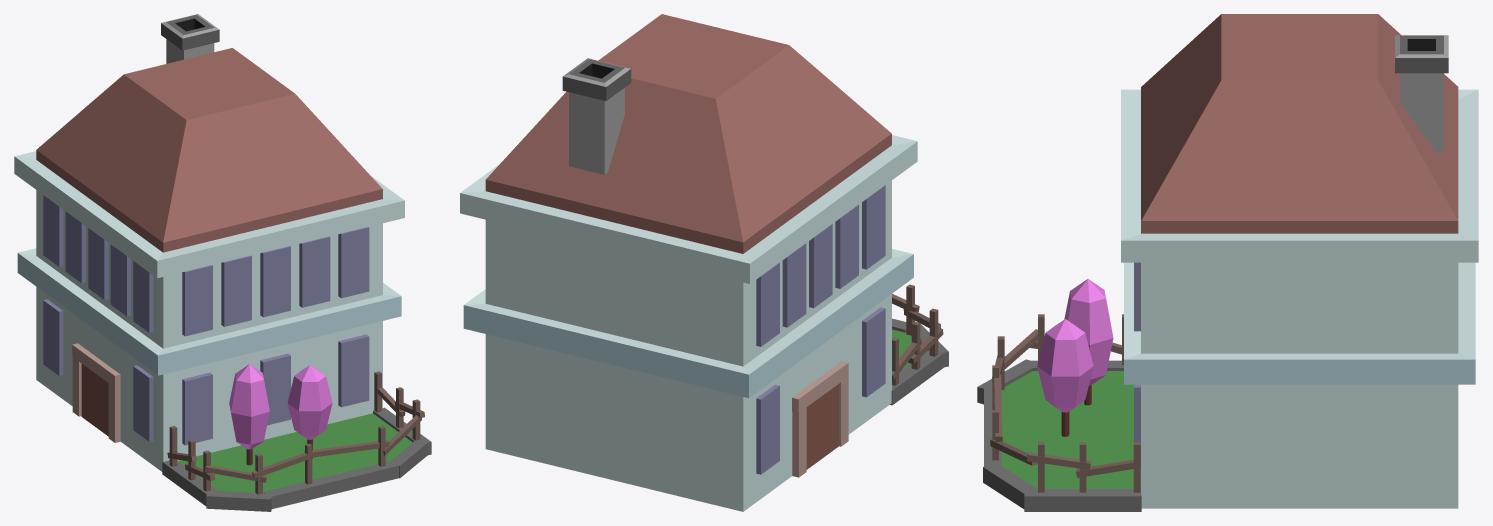
File: Player_House.fbx
The picture shows the model from 3 angles, left to right: view 1: azimuth 30°, elevation 25°; view 2: azimuth 150°, elevation 25°; view 3: azimuth 270°, elevation 25°; orthographic projection. The views are drawn at different scales.
Visible parts, largest first — view 1: Cube, Cube.001, Cube.007, Cube.002, Cube.003, Cube.006, Cylinder.001, Cylinder, Cube.027, Cube.004, Cube.005, Cube.028 (+5 smaller); view 2: Cube, Cube.002, Cube.006, Cube.004, Cube.005, Cube.025; view 3: Cube, Cube.007, Cylinder, Cylinder.001, Cube.026, Cube.029, Cube.027, Cube.028, Cube.021, Cube.020.
Boxes of the visible parts, x1,y1,x2,y2 form: Cube: (14,14,404,471); Cube.001: (182,227,369,336); Cube.007: (177,413,412,493); Cube.002: (43,195,153,332); Cube.003: (182,334,369,445); Cube.006: (43,299,153,441); Cylinder.001: (229,364,269,465); Cylinder: (287,365,332,458); Cube.027: (263,460,398,508); Cube.004: (72,343,120,442); Cube.005: (81,364,108,436); Cube.028: (206,491,272,511); Cube: (460,14,917,511); Cube.002: (756,185,885,346); Cube.006: (756,307,885,474); Cube.004: (792,361,848,477); Cube.005: (806,384,838,469); Cube.025: (890,348,946,405); Cube: (1121,14,1478,508); Cube.007: (1001,371,1140,488); Cylinder: (1037,319,1093,436); Cylinder.001: (1064,279,1113,405); Cube.026: (1024,489,1141,511); Cube.029: (983,466,1036,508); Cube.027: (984,389,1001,466); Cube.028: (977,359,1032,404); Cube.021: (1027,452,1090,469); Cube.020: (1076,460,1139,477).
Bounding box in the file's own units: 225 × 290 × 316.
